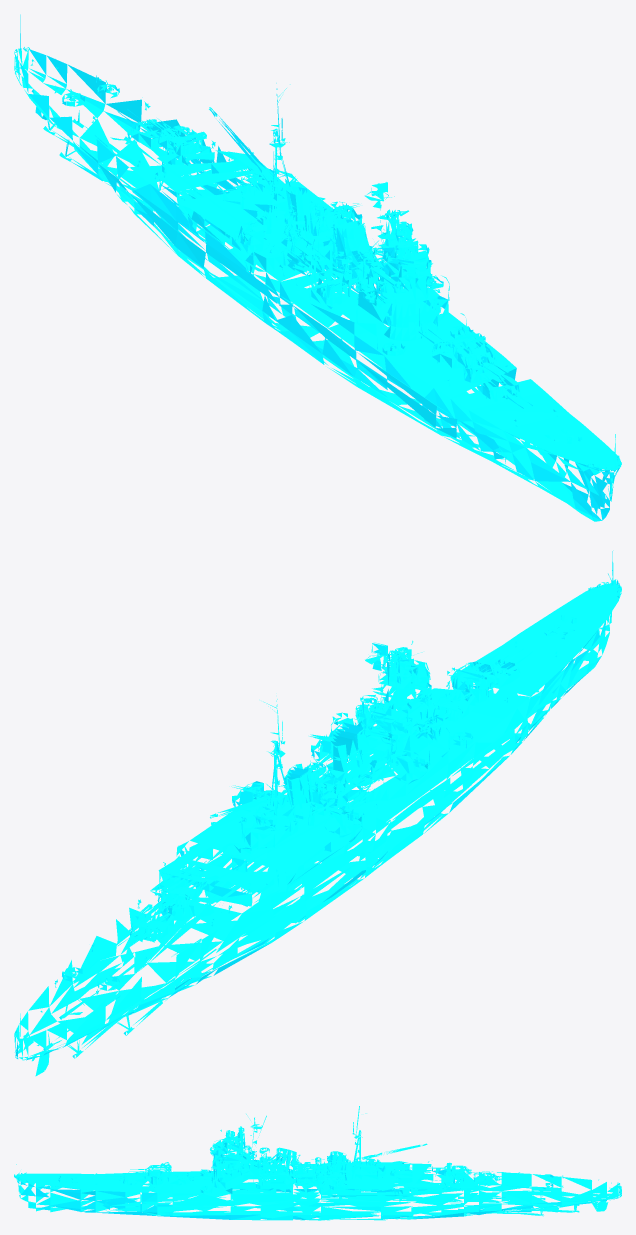
Rendered from Nachi.glb.
3 views of the same model, one above another, from view 1: azimuth 30°, elevation 25°; view 2: azimuth 150°, elevation 25°; view 3: azimuth 270°, elevation 25° (orthographic). The views are drawn at different scales.
Size of the model in its own units: 1.74 by 2.62 by 13.54.
